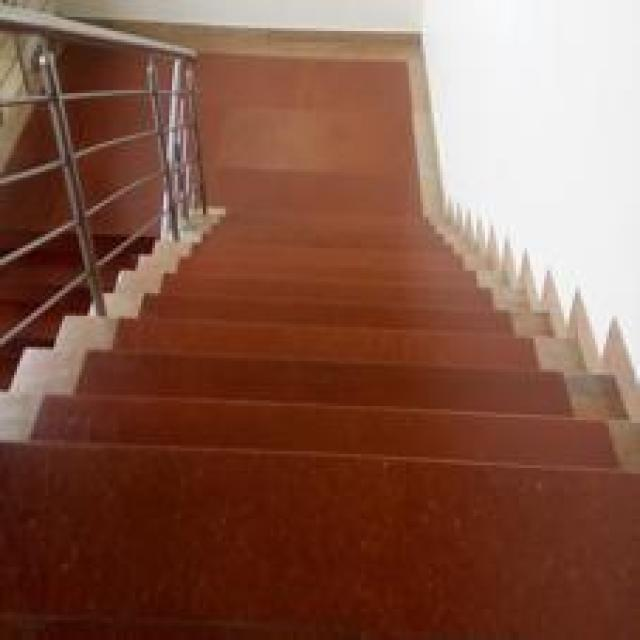downstair: (32, 280, 607, 534)
